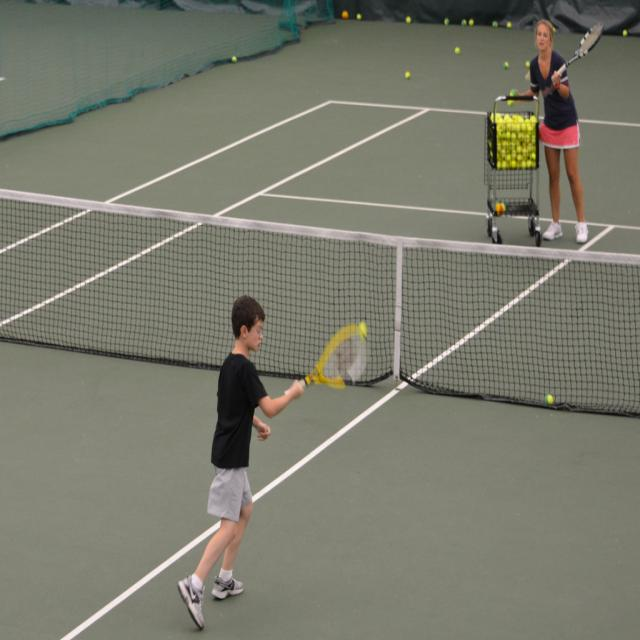Tennis ball: (490, 116, 540, 169), (340, 7, 350, 20), (228, 54, 239, 65), (359, 322, 366, 339), (547, 392, 555, 406), (405, 69, 413, 82), (621, 27, 629, 39), (489, 20, 499, 28), (357, 13, 364, 24), (468, 17, 476, 26), (502, 61, 510, 70), (505, 22, 513, 31), (444, 17, 451, 26), (461, 17, 468, 26), (454, 48, 462, 54), (406, 15, 412, 22)
